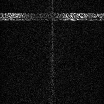wifi: (1, 12, 104, 20)
